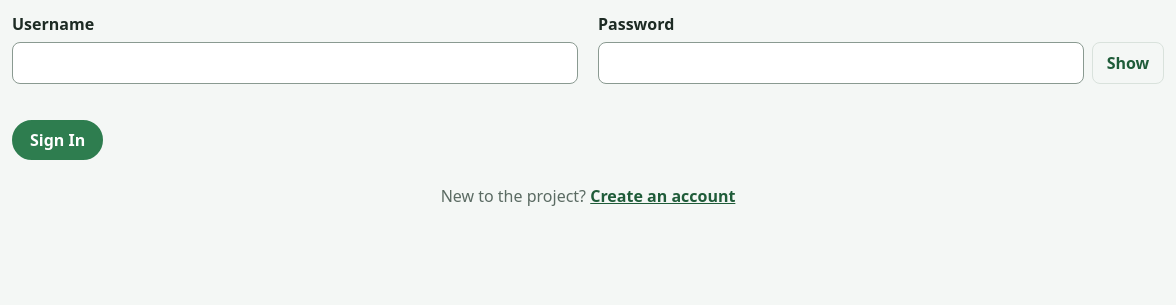
Test: SignInForm › shows the generic invalid-credentials message, keeps the username and clears the password
This screenshot has width=1176, height=305.
Type "demo.farmer" into the field labelled "Username" at point(295, 63), box left=12, top=42, right=578, bottom=84
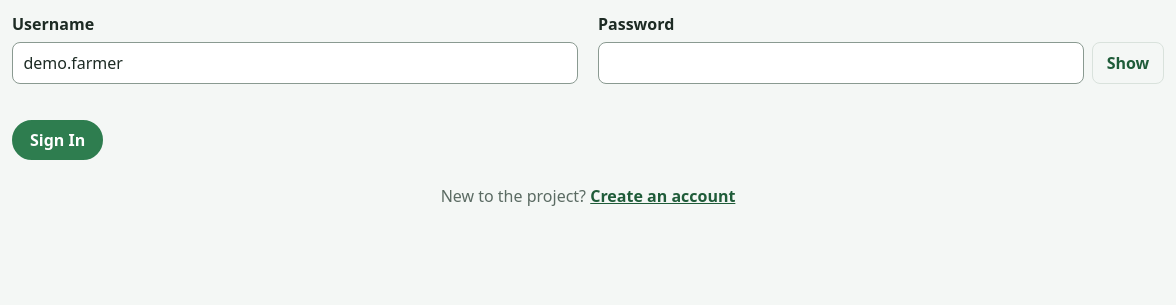
Type "WrongPassword1" into the password field labelled "Password" at point(841, 63), box left=598, top=42, right=1084, bottom=84
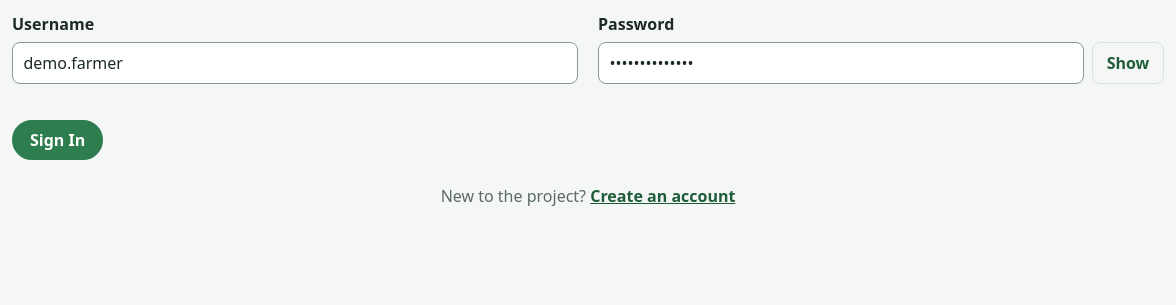
Click the button "Sign In" at point(58, 140), box left=12, top=120, right=103, bottom=160
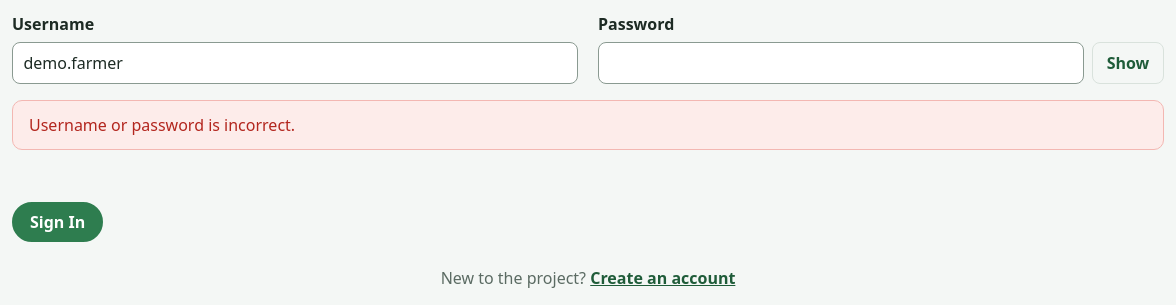
Check: the message reads "Username or password is incorrect.", box left=29, top=114, right=295, bottom=136
Check: the password field labelled "Password" is empty, box left=598, top=42, right=1084, bottom=84
